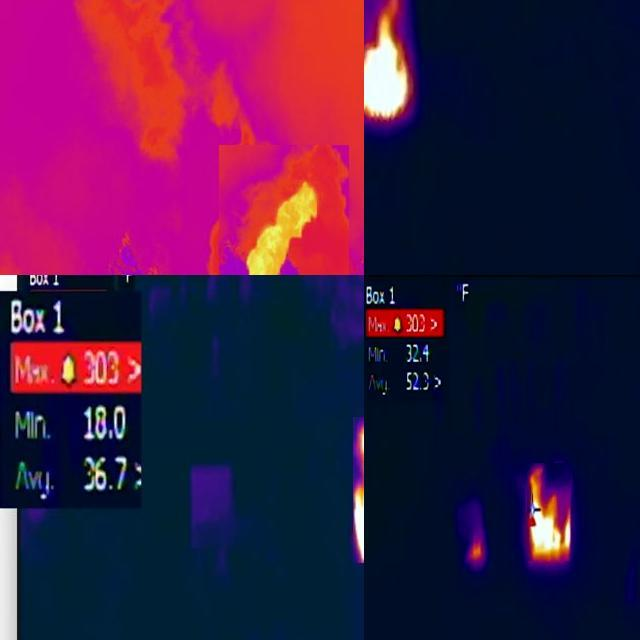fire: (248, 183, 322, 276), (365, 2, 414, 129), (527, 463, 571, 561), (468, 534, 486, 566)
